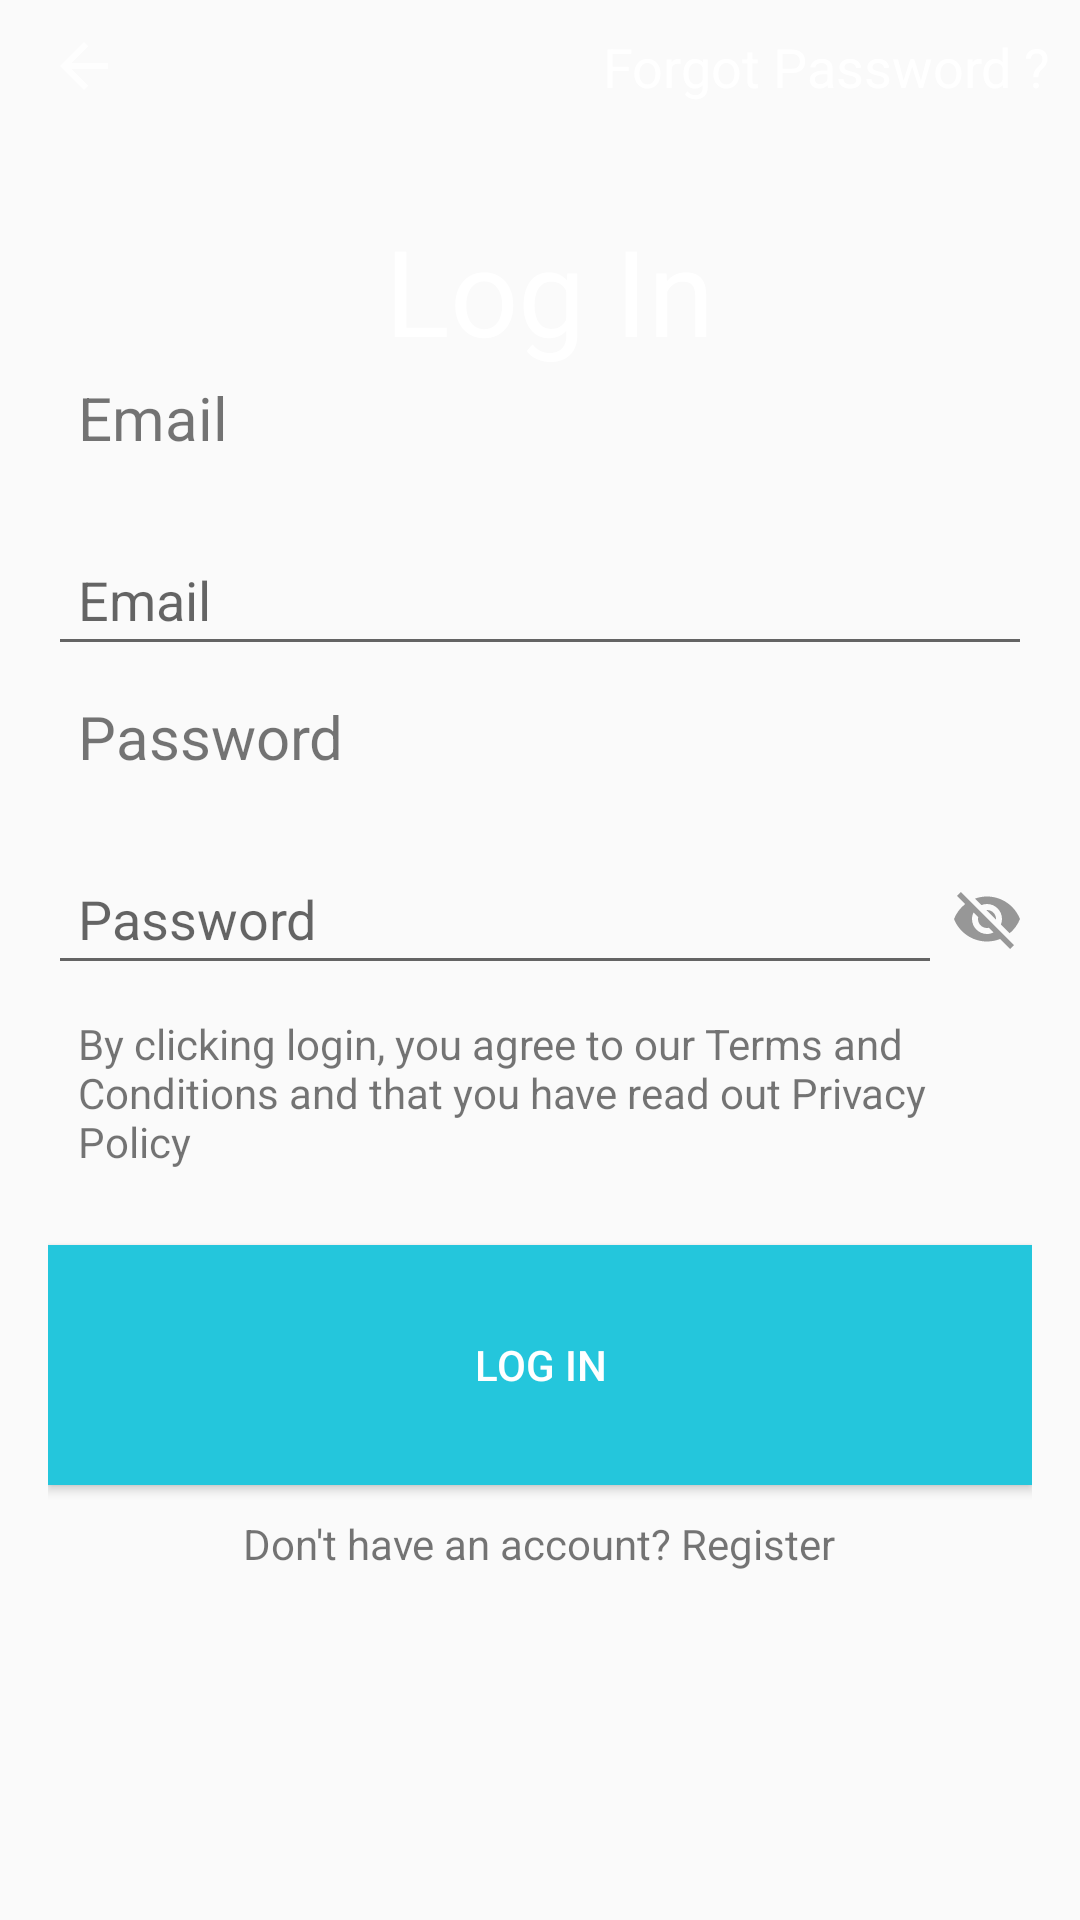

Named icons in this screenshot (1080×1920) and their centers, point (x, y):
visible off eye: point (987, 920)
